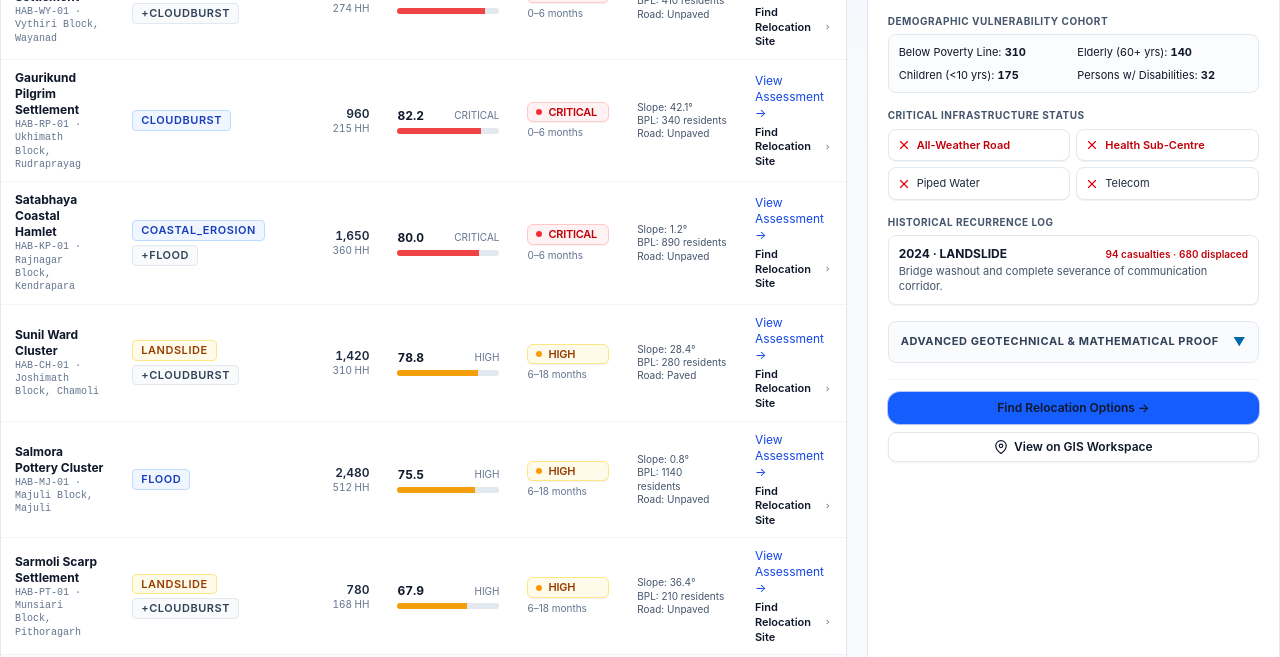
Test: Habitation Prioritization Surface (Phase 5B) › renders HabitationsWorkspace coordinating table and dossier selection
The image size is (1280, 657).
(page scrolled)
// Click on another settlement row
Click the text "Sunil Ward Cluster": coordinates (46, 342) [15,326,78,358]
(page scrolled)
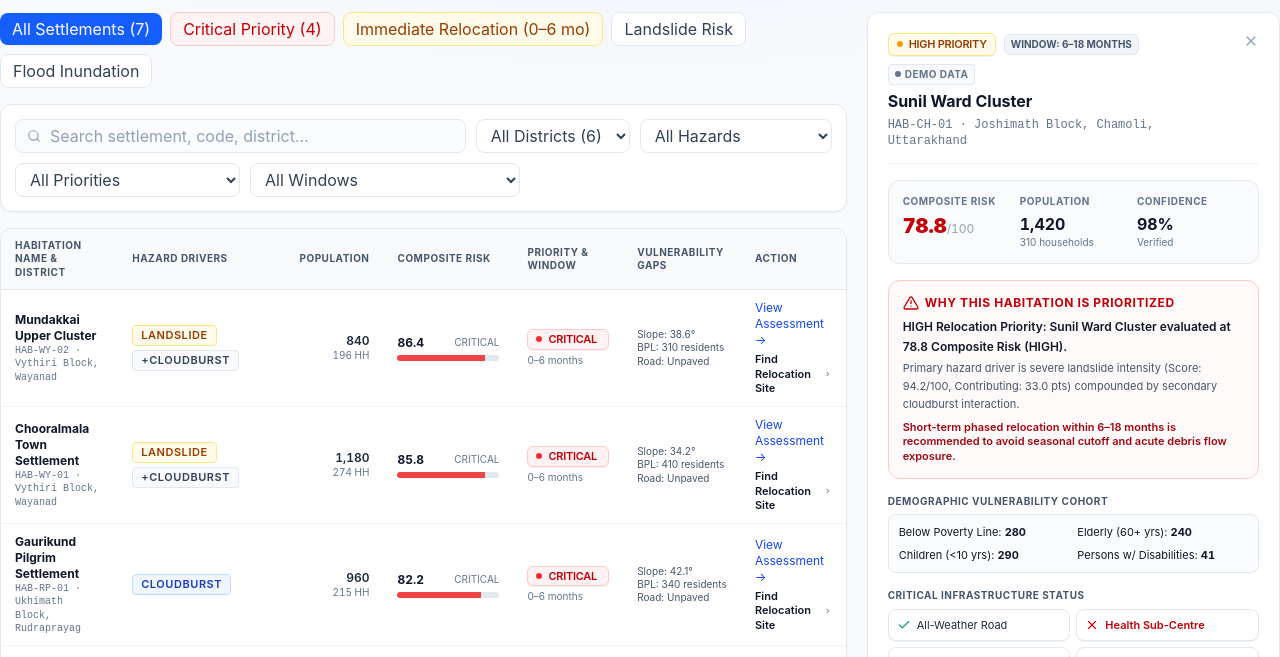
expect the text "Sunil Ward Cluster evaluated at" is shown: met, box [903,319,1231,354]
